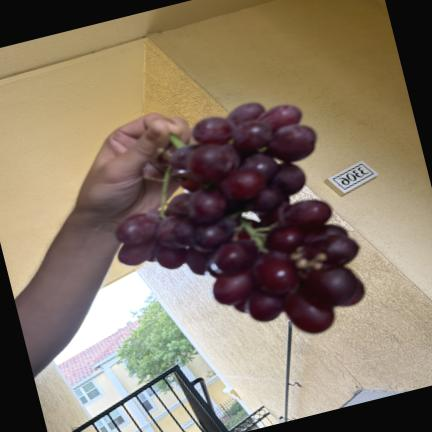grape_cluster: (116, 102, 363, 333)
